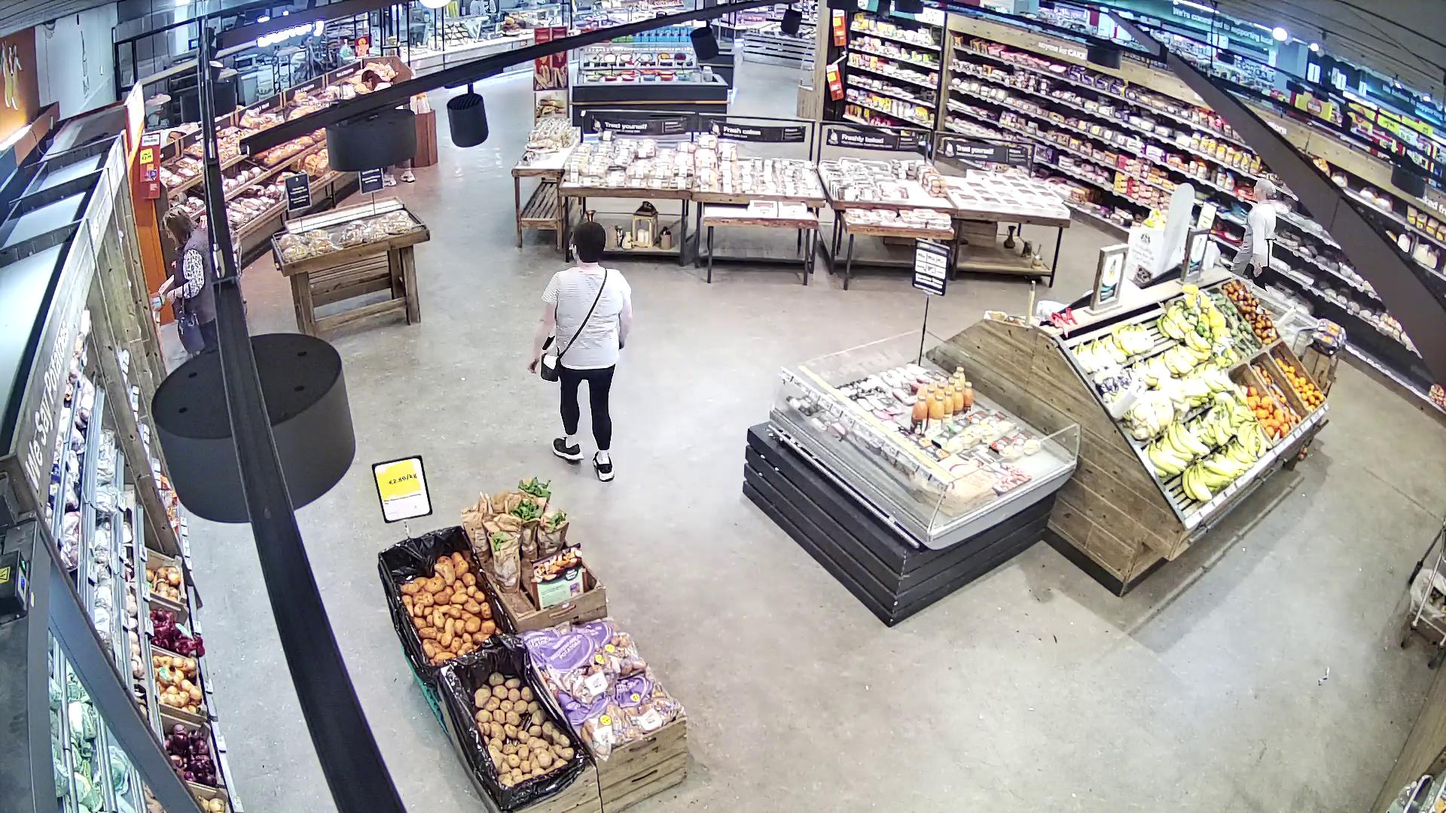backpack-or-handbag: (541, 336, 561, 382)
person: (529, 223, 633, 481)
person-with-backpack-handbag: (529, 220, 633, 479)
